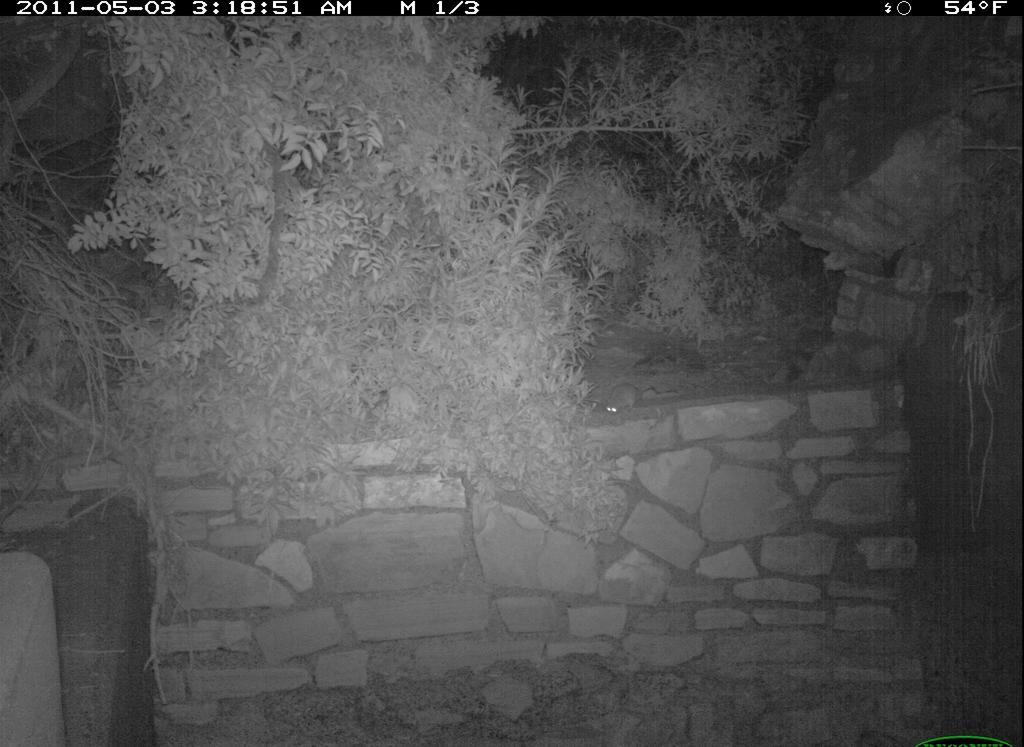rodent: (596, 376, 657, 425)
